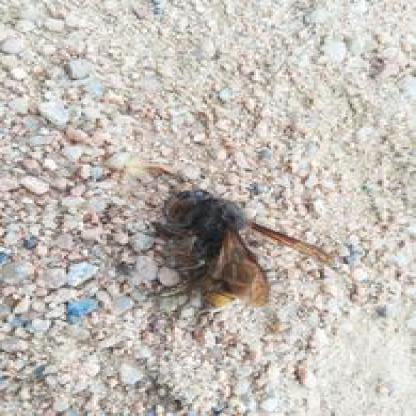Asian Hornet: (140, 165, 332, 315)
